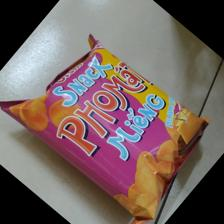Oishi_phomat: (1, 30, 208, 224)
